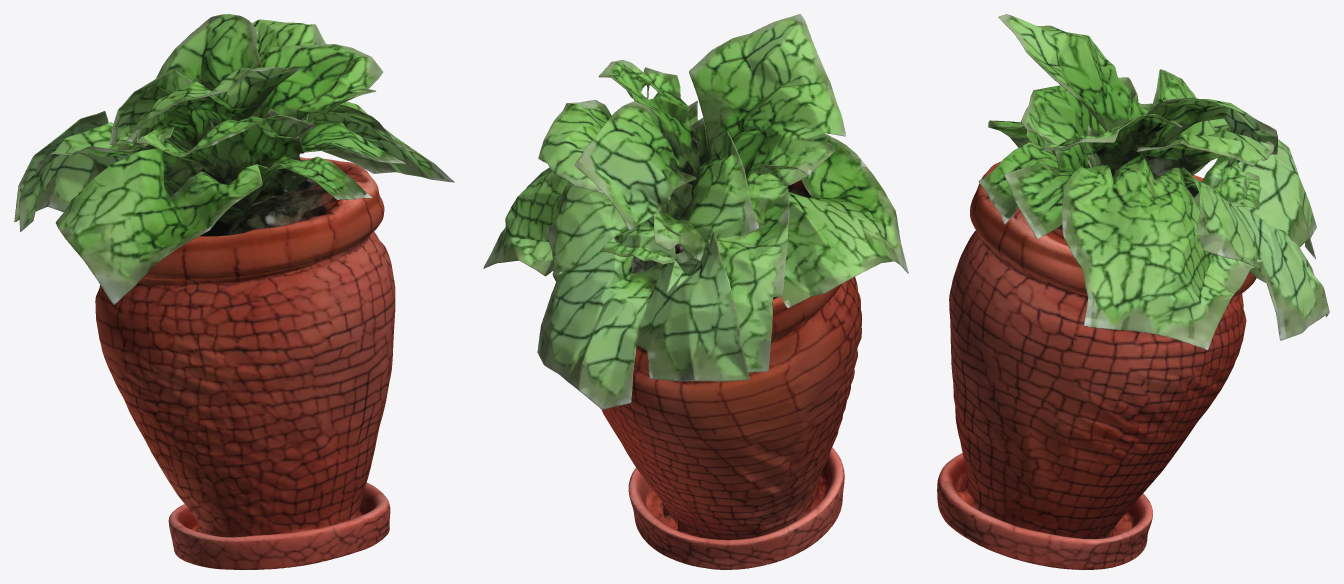
File: pixal3d.glb
The picture shows the model from 3 angles, left to right: view 1: azimuth 30°, elevation 25°; view 2: azimuth 150°, elevation 25°; view 3: azimuth 270°, elevation 25°; orthographic projection.
Visible parts, largest first — view 1: world; view 2: world; view 3: world.
Boxes of the visible parts, x1,y1,x2,y2 form: world: [14, 14, 454, 569]; world: [483, 14, 908, 569]; world: [937, 14, 1329, 569].
Size of the model in its own units: 0.7048 by 0.9252 by 0.6513.
1 material, 1 textured.
